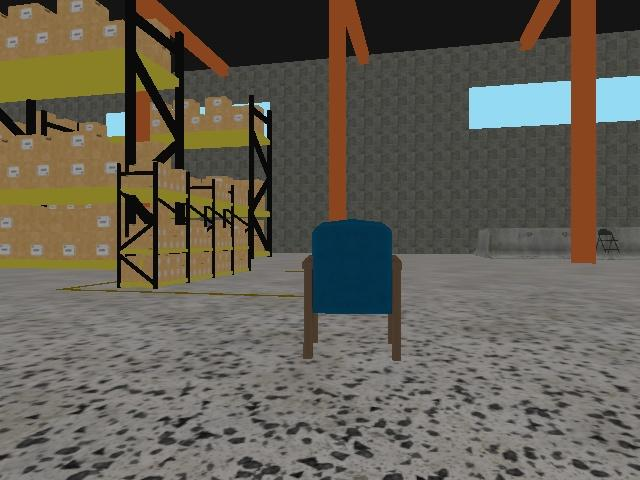chair: (301, 218, 405, 364)
